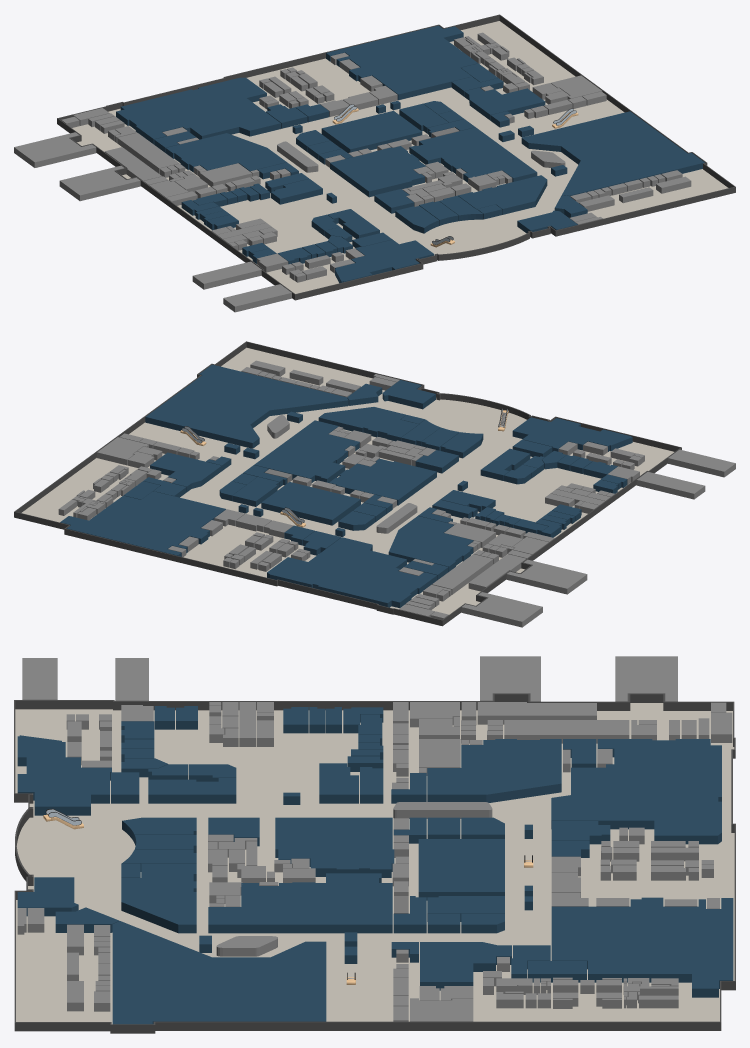
The model's file is second_floor1.gltf.
3 views of the same model, one above another, from view 1: azimuth 30°, elevation 25°; view 2: azimuth 150°, elevation 25°; view 3: azimuth 270°, elevation 25° (orthographic). The views are drawn at different scales.
Visible parts, largest first — view 1: sf_ground, ff_f-56-57-58.001, sf_frame, ff_f-43-51.001, ff_f-37.001, ff_f-36.001, ff_f-35.001, sf_tr_a.051, sf_tr_a.050, ff_f-70.001, ff_f-02.001, ff_f-31.001 (+36 smaller); view 2: sf_ground, ff_f-56-57-58.001, sf_frame, ff_f-43-51.001, ff_f-37.001, ff_f-36.001, sf_tr_a.051, sf_tr_a.050, ff_f-35.001, ff_f-02.001, ff_f-62.001, ff_f-31.001 (+35 smaller); view 3: sf_ground, ff_f-56-57-58.001, ff_f-43-51.001, sf_frame, ff_f-37.001, ff_f-36.001, ff_f-02.001, ff_f-31.001, ff_f-35.001, ff_f-62.001, sf_tr_a.051, sf_tr_a.050 (+60 smaller).
Boxes of the visible parts, x1=… form: sf_ground: x1=72, y1=21, x2=728, y2=293; ff_f-56-57-58.001: x1=521, y1=111, x2=704, y2=196; sf_frame: x1=57, y1=14, x2=735, y2=300; ff_f-43-51.001: x1=326, y1=25, x2=477, y2=100; ff_f-37.001: x1=116, y1=77, x2=263, y2=127; ff_f-36.001: x1=192, y1=90, x2=280, y2=136; ff_f-35.001: x1=133, y1=108, x2=222, y2=144; sf_tr_a.051: x1=14, y1=132, x2=96, y2=167; sf_tr_a.050: x1=59, y1=165, x2=140, y2=201; ff_f-70.001: x1=352, y1=162, x2=425, y2=197; ff_f-02.001: x1=362, y1=239, x2=434, y2=270; ff_f-31.001: x1=189, y1=146, x2=286, y2=172; sf_ground: x1=22, y1=347, x2=673, y2=614; ff_f-56-57-58.001: x1=145, y1=364, x2=348, y2=448; sf_frame: x1=14, y1=341, x2=681, y2=626; ff_f-43-51.001: x1=60, y1=491, x2=225, y2=556; ff_f-37.001: x1=267, y1=559, x2=413, y2=608; ff_f-36.001: x1=285, y1=537, x2=386, y2=576; sf_tr_a.051: x1=461, y1=592, x2=542, y2=627; sf_tr_a.050: x1=506, y1=559, x2=587, y2=594; ff_f-35.001: x1=356, y1=554, x2=437, y2=596; ff_f-02.001: x1=512, y1=417, x2=580, y2=446; ff_f-62.001: x1=318, y1=407, x2=396, y2=435; ff_f-31.001: x1=397, y1=516, x2=473, y2=554; sf_ground: x1=15, y1=703, x2=734, y2=1024; ff_f-56-57-58.001: x1=112, y1=921, x2=326, y2=1024; ff_f-43-51.001: x1=551, y1=897, x2=733, y2=997; sf_frame: x1=14, y1=693, x2=735, y2=1033; ff_f-37.001: x1=664, y1=739, x2=721, y2=844; ff_f-36.001: x1=551, y1=782, x2=664, y2=840; ff_f-02.001: x1=17, y1=772, x2=109, y2=815; ff_f-31.001: x1=427, y1=740, x2=495, y2=802; ff_f-35.001: x1=571, y1=739, x2=664, y2=782; ff_f-62.001: x1=121, y1=885, x2=196, y2=933; sf_tr_a.051: x1=615, y1=656, x2=677, y2=701; sf_tr_a.050: x1=480, y1=656, x2=540, y2=701.
Bounding box in the file's own units: 3.61 × 0.0915 × 2.98.
